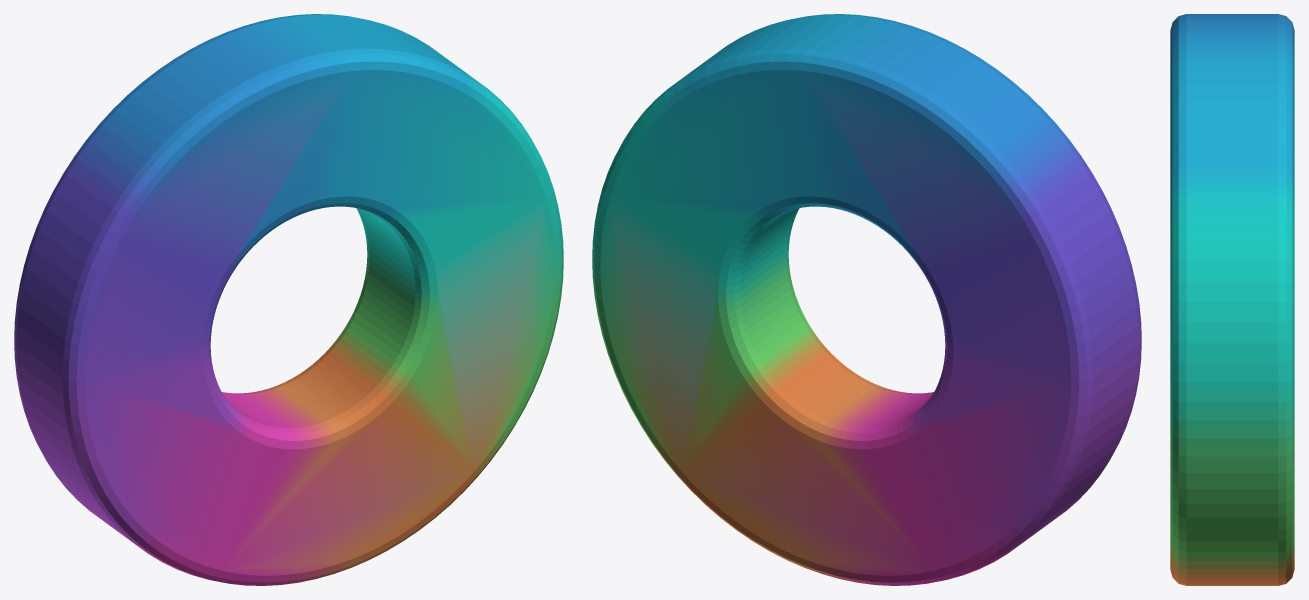
File: token-08-ring.glb
3 renders of one model, left to right at view 1: azimuth 30°, elevation 25°; view 2: azimuth 150°, elevation 25°; view 3: azimuth 270°, elevation 25°, orthographic.
Parts seen in each view (by area): view 1: ring; view 2: ring; view 3: ring.
Boxes of the visible parts, left/top/right/bottom form: ring: left=14, top=14, right=563, bottom=585; ring: left=592, top=14, right=1141, bottom=585; ring: left=1170, top=14, right=1294, bottom=585.
Bounding box in the file's own units: 2 × 2 × 0.4339.
